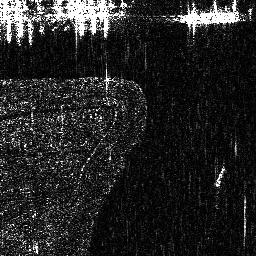ship: (179, 8, 248, 27)
